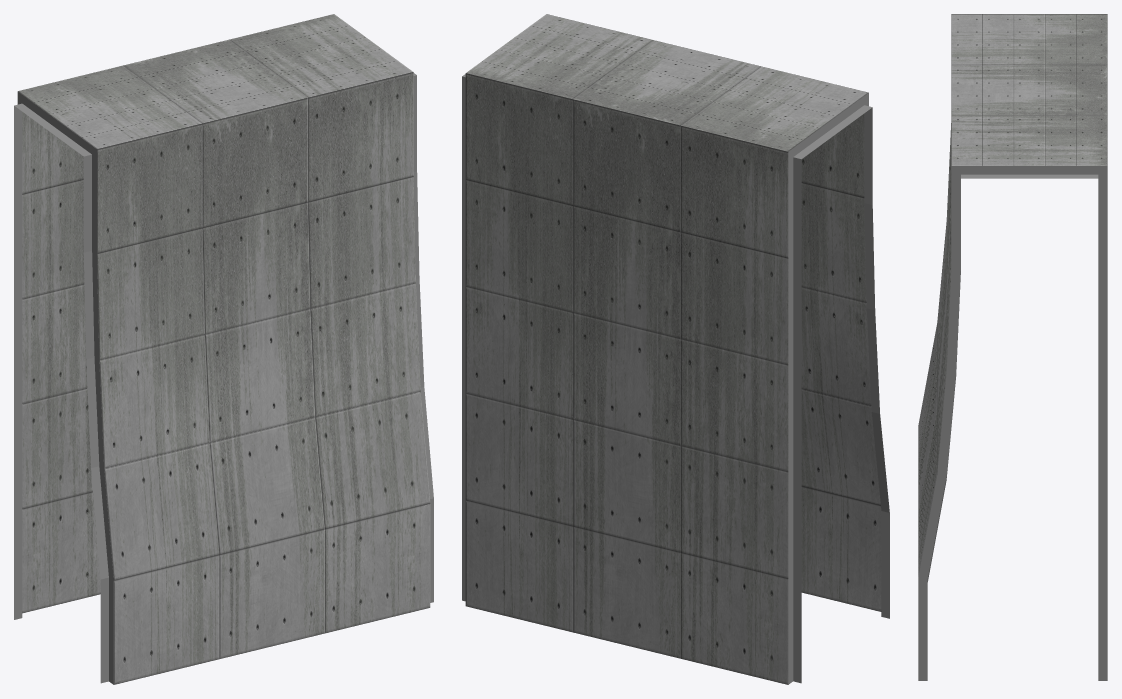
Rendered from Big Wall.FBX.
3 views of the same model, side by side, from view 1: azimuth 30°, elevation 25°; view 2: azimuth 150°, elevation 25°; view 3: azimuth 270°, elevation 25° (orthographic). The views are drawn at different scales.
Visible parts, largest first — view 1: Box001; view 2: Box001; view 3: Box001.
Part boxes in pixels (bbox=[...]): Box001: bbox=[14, 14, 433, 684]; Box001: bbox=[462, 14, 889, 684]; Box001: bbox=[918, 14, 1107, 680].
Bounding box in the file's own units: 2000 × 3000 × 1000.
